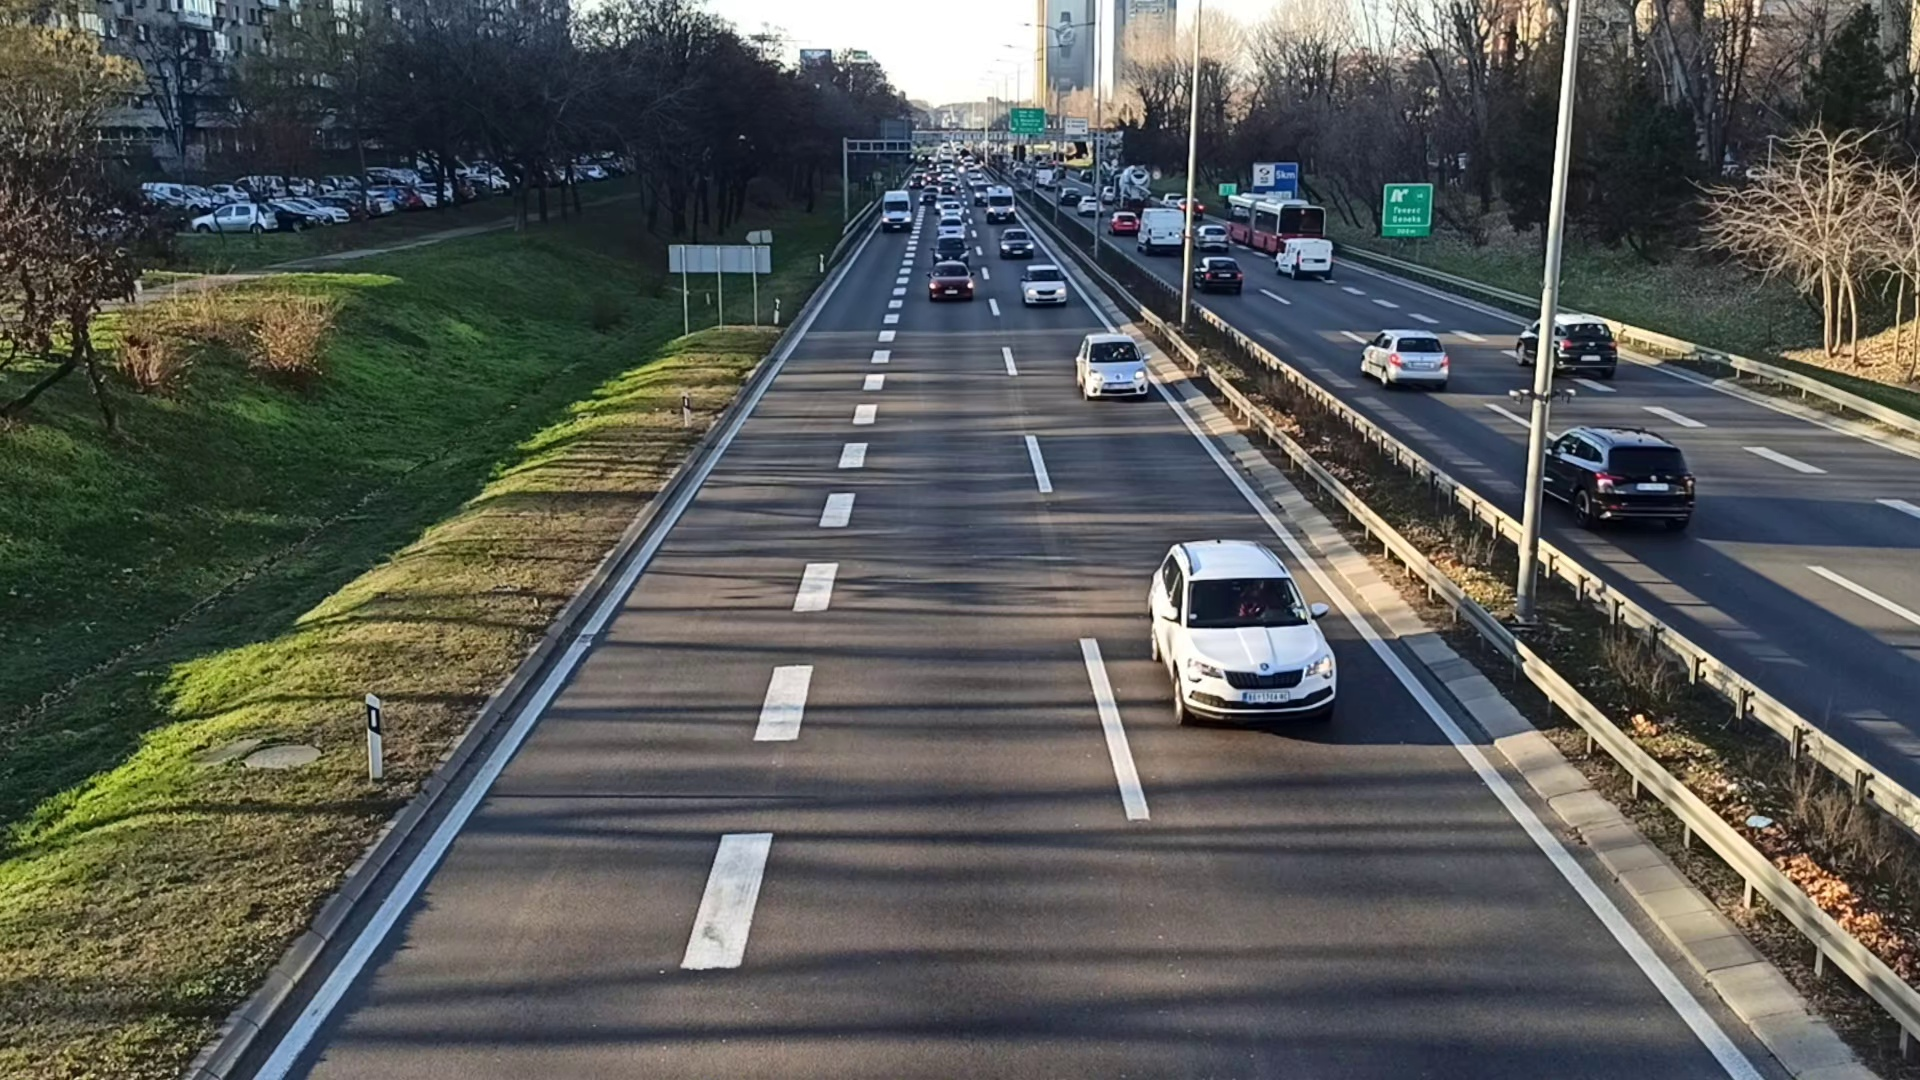bus: (1225, 194, 1324, 252)
car: (1145, 534, 1338, 728), (1531, 421, 1698, 534), (1520, 315, 1617, 376), (1073, 334, 1149, 401), (1362, 331, 1447, 390), (1279, 237, 1333, 278), (1021, 264, 1065, 307), (1192, 255, 1240, 291), (928, 262, 971, 299), (998, 229, 1031, 260), (935, 235, 969, 264), (1193, 224, 1228, 251), (1110, 208, 1139, 233)
van: (1141, 204, 1182, 251), (882, 189, 910, 229)
